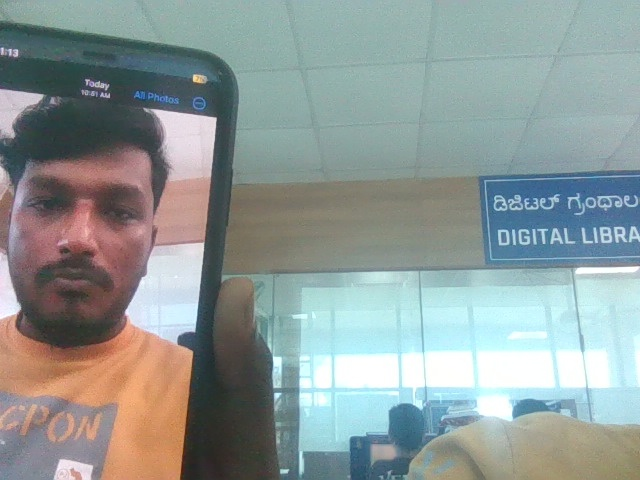fake: (0, 66, 199, 348)
